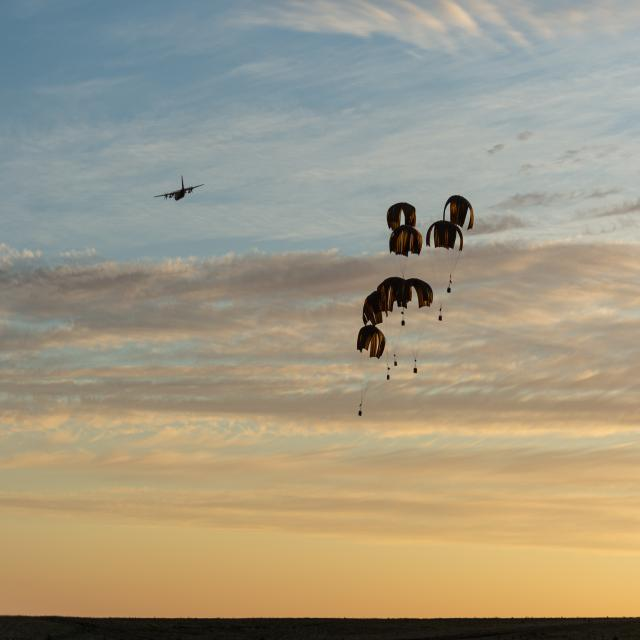MIL_Plane: (153, 175, 204, 201)
